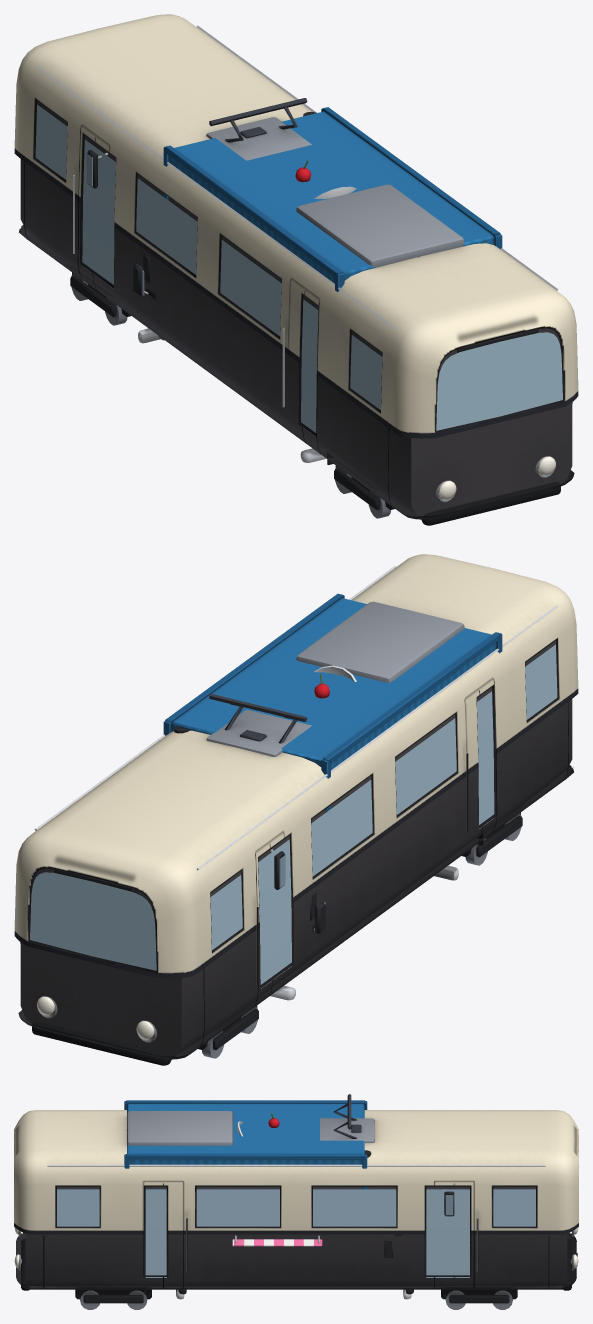
Rendered from Vehicles.fbx.
3 views of the same model, one above another, from view 1: azimuth 30°, elevation 25°; view 2: azimuth 150°, elevation 25°; view 3: azimuth 270°, elevation 25° (orthographic). The views are drawn at different scales.
Parts seen in each view (by area): view 1: TramBody.001, TramDetail.001, TramGlass.001, DockTruckDetail.001, IceDetail.001; view 2: TramBody.001, TramDetail.001, TramGlass.001, DockTruckDetail.001, IceDetail.001; view 3: TramBody.001, TramDetail.001, TramGlass.001, DockTruckDetail.001, IceDetail.001, NewsDetail.001.
Boxes of the visible parts, x1,y1,x2,y2 form: TramBody.001: [14, 14, 578, 519]; TramDetail.001: [20, 25, 572, 525]; TramGlass.001: [35, 104, 562, 436]; DockTruckDetail.001: [86, 107, 502, 464]; IceDetail.001: [133, 160, 326, 462]; TramBody.001: [14, 554, 578, 1059]; TramDetail.001: [20, 565, 572, 1065]; TramGlass.001: [30, 644, 557, 988]; DockTruckDetail.001: [163, 593, 502, 930]; IceDetail.001: [270, 674, 458, 1000]; TramBody.001: [14, 1110, 578, 1289]; TramDetail.001: [18, 1094, 574, 1309]; TramGlass.001: [57, 1189, 535, 1277]; DockTruckDetail.001: [124, 1100, 454, 1294]; IceDetail.001: [176, 1113, 411, 1299]; NewsDetail.001: [178, 1121, 413, 1294].
Size of the model in its own units: 9.32 by 11.7 by 34.
Materials: 52 (12 with a texture image).
